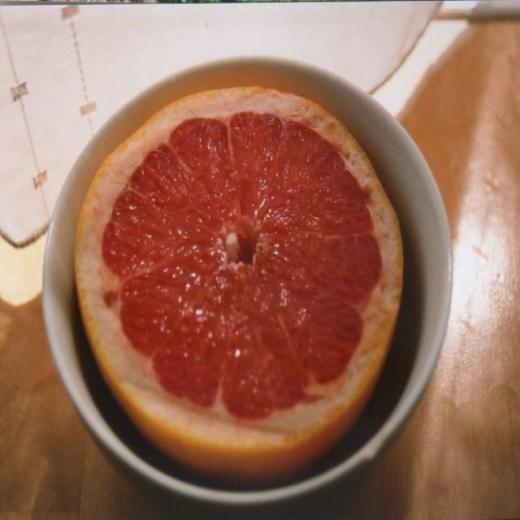Grape: (74, 86, 403, 486)
